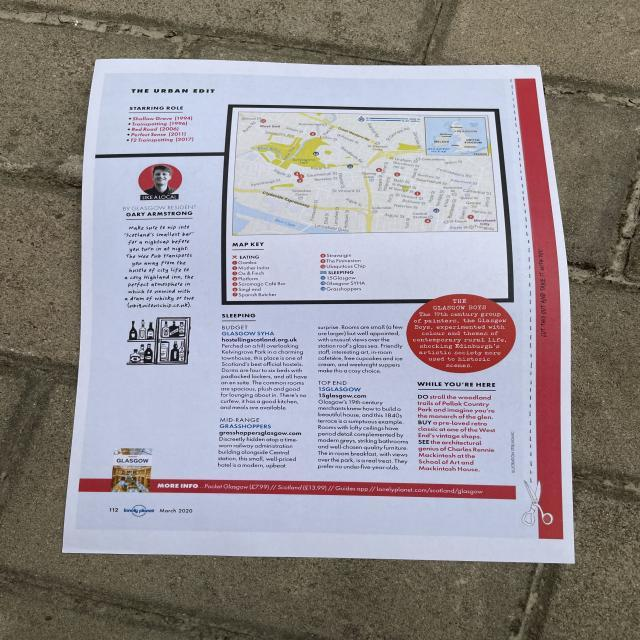document: (63, 59, 573, 564)
